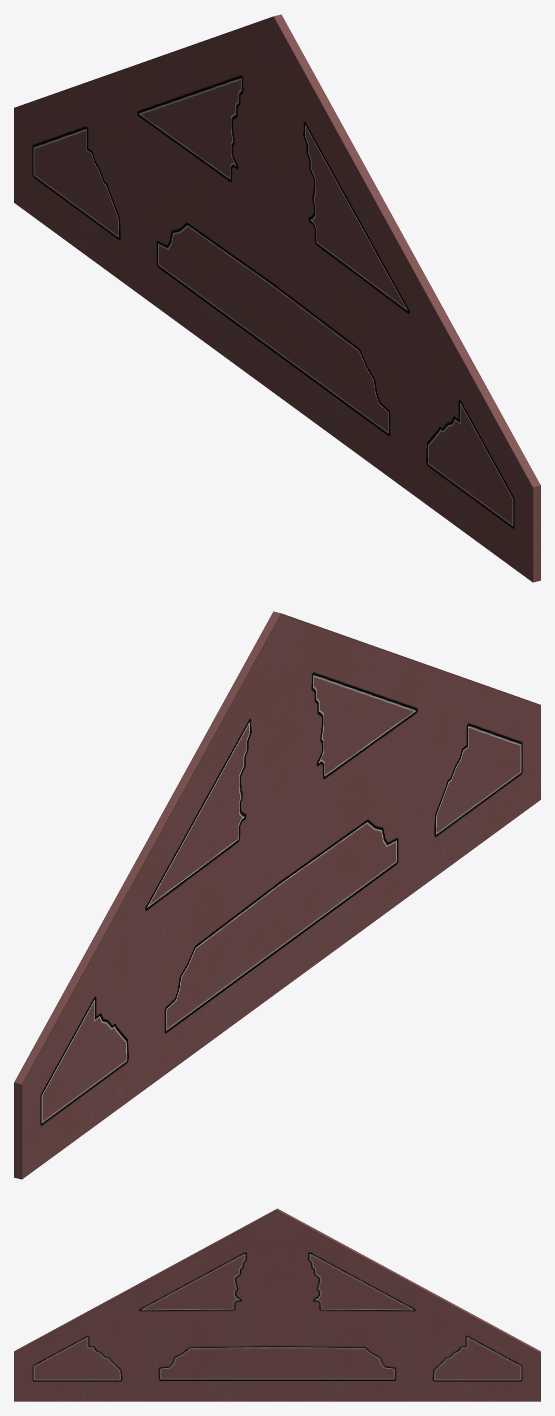
The model's file is SM_Wall05d.fbx.
The picture shows the model from 3 angles, top to bottom: view 1: azimuth 30°, elevation 25°; view 2: azimuth 150°, elevation 25°; view 3: azimuth 270°, elevation 25°; orthographic projection. The views are drawn at different scales.
Visible parts, largest first — view 1: SM_Wall05d; view 2: SM_Wall05d; view 3: SM_Wall05d.
Part boxes in pixels (bbox=[...]): SM_Wall05d: bbox=[14, 14, 540, 582]; SM_Wall05d: bbox=[14, 611, 540, 1179]; SM_Wall05d: bbox=[14, 1208, 540, 1401].
Size of the model in its own units: 4.5 by 500 by 200.
Materials: 1 (1 with a texture image).
